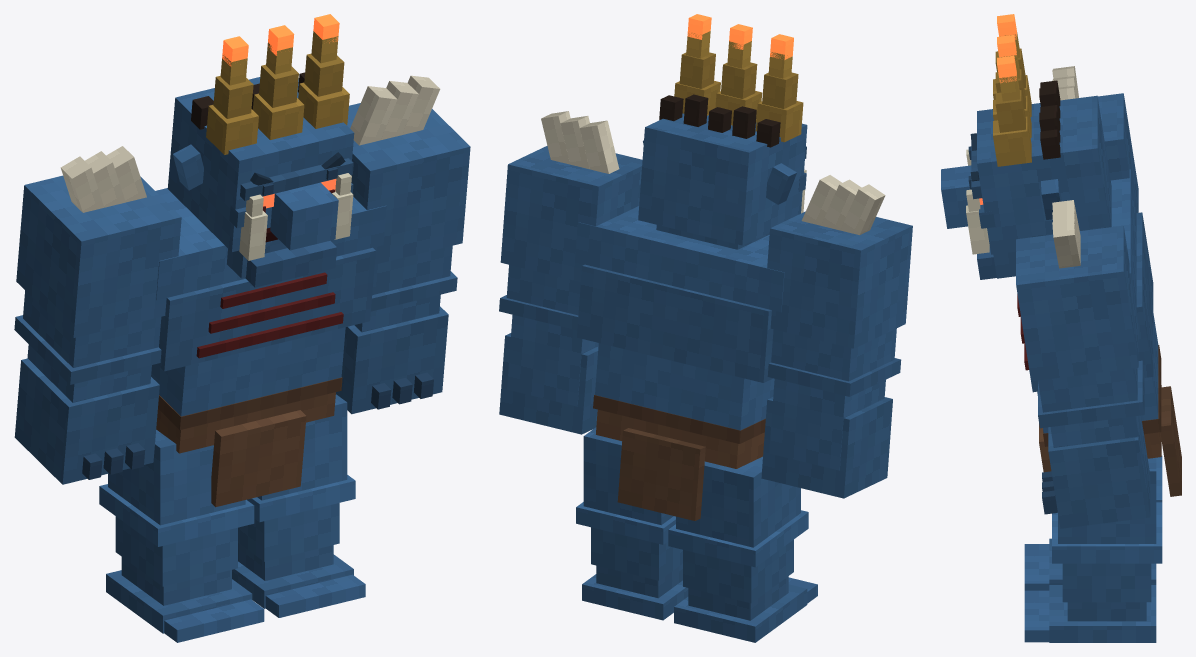
The model's file is ogre_base_v2_evo2.glb.
The picture shows the model from 3 angles, left to right: view 1: azimuth 30°, elevation 25°; view 2: azimuth 150°, elevation 25°; view 3: azimuth 270°, elevation 25°; orthographic projection. The views are drawn at different scales.
Visible parts, largest first — view 1: ArmR, Torso, Head, ArmL, LegR, LegL; view 2: Torso, ArmR, Head, ArmL, LegR, LegL; view 3: ArmL, Head, LegL, Torso, ArmR, LegR.
Part boxes in pixels (bbox=[...]): ArmR: bbox=[14, 146, 181, 484]; Torso: bbox=[151, 188, 386, 507]; Head: bbox=[167, 14, 354, 287]; ArmL: bbox=[336, 75, 470, 414]; LegR: bbox=[99, 430, 264, 642]; LegL: bbox=[232, 394, 365, 617]; Torso: bbox=[575, 206, 784, 520]; ArmR: bbox=[761, 175, 912, 498]; Head: bbox=[638, 14, 807, 249]; ArmL: bbox=[499, 111, 642, 434]; LegR: bbox=[668, 456, 817, 642]; LegL: bbox=[576, 427, 688, 620]; ArmL: bbox=[1016, 200, 1150, 528]; Head: bbox=[941, 14, 1111, 279]; LegL: bbox=[1024, 457, 1162, 642]; Torso: bbox=[1017, 169, 1181, 496]; ArmR: bbox=[1052, 66, 1138, 212]; LegR: bbox=[1024, 456, 1162, 590].
Size of the model in its own units: 1.46 by 2.13 by 0.8306.
Materials: 28 (28 with a texture image).
